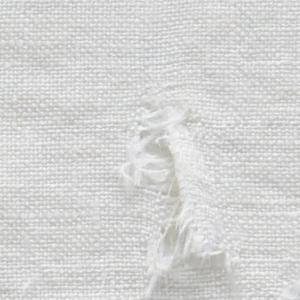Damage: (122, 73, 258, 300)
